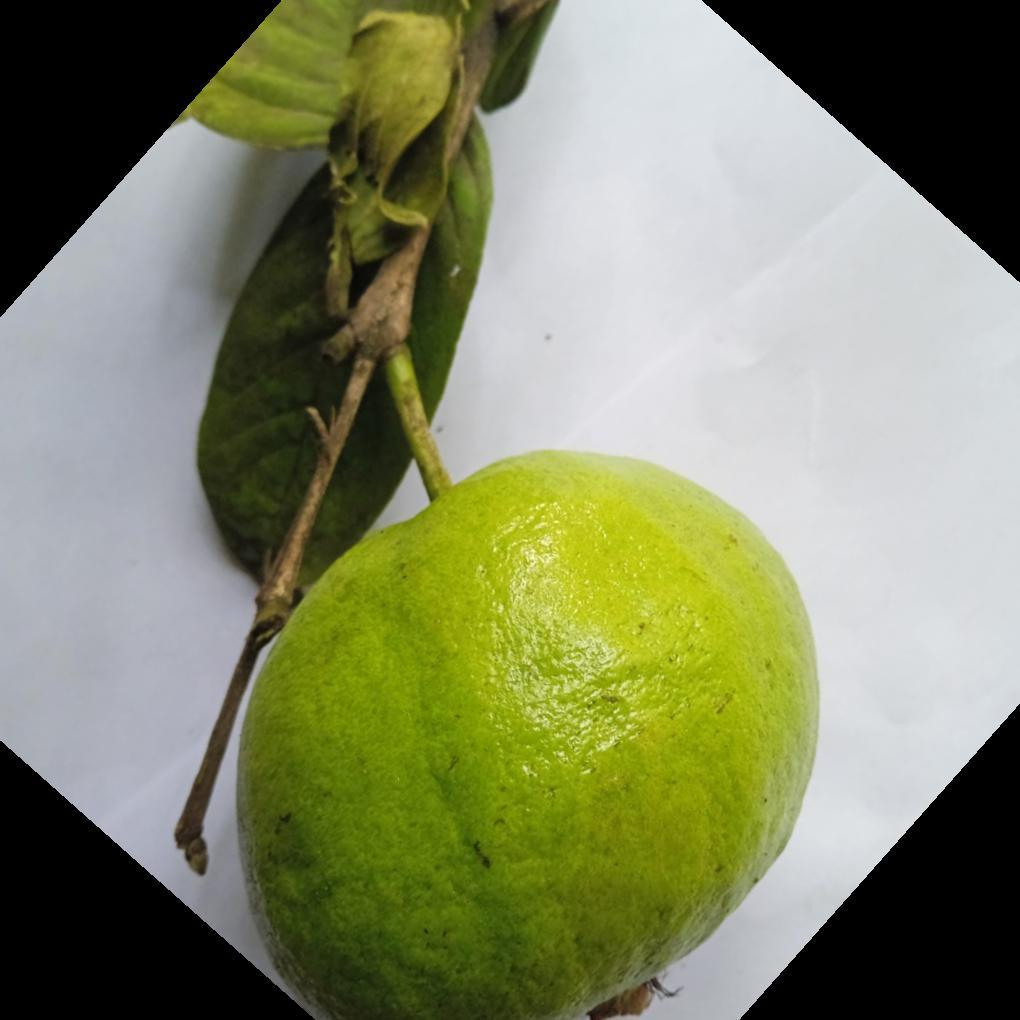FreshGuava: (234, 449, 822, 1020)
